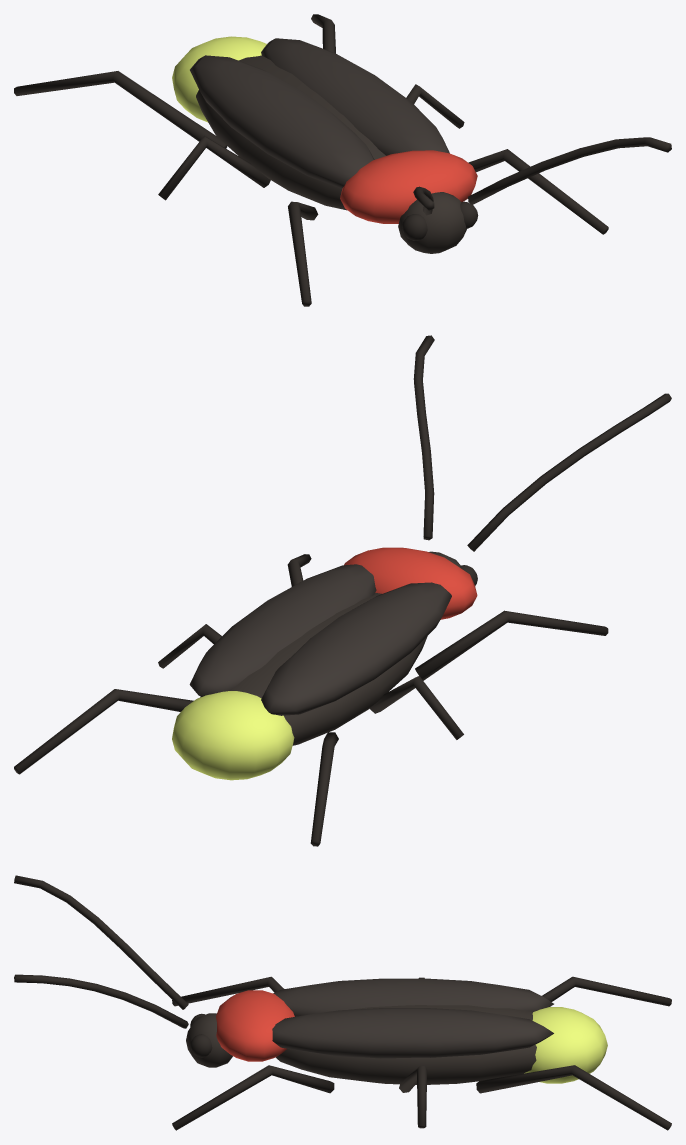
Rendered from bug-firefly.glb.
The picture shows the model from 3 angles, top to bottom: view 1: azimuth 30°, elevation 25°; view 2: azimuth 150°, elevation 25°; view 3: azimuth 270°, elevation 25°; orthographic projection. The views are drawn at different scales.
Visible parts, largest first — view 1: bug; view 2: bug; view 3: bug.
Boxes of the visible parts, x1,y1,x2,y2 form: bug: (14, 14, 671, 306); bug: (14, 335, 671, 846); bug: (14, 875, 671, 1130).
Size of the model in its own units: 0.1133 by 0.0625 by 0.2463.
